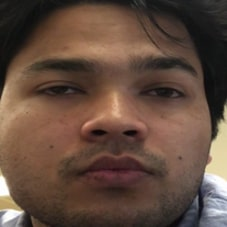drowsy: (19, 42, 202, 199)
